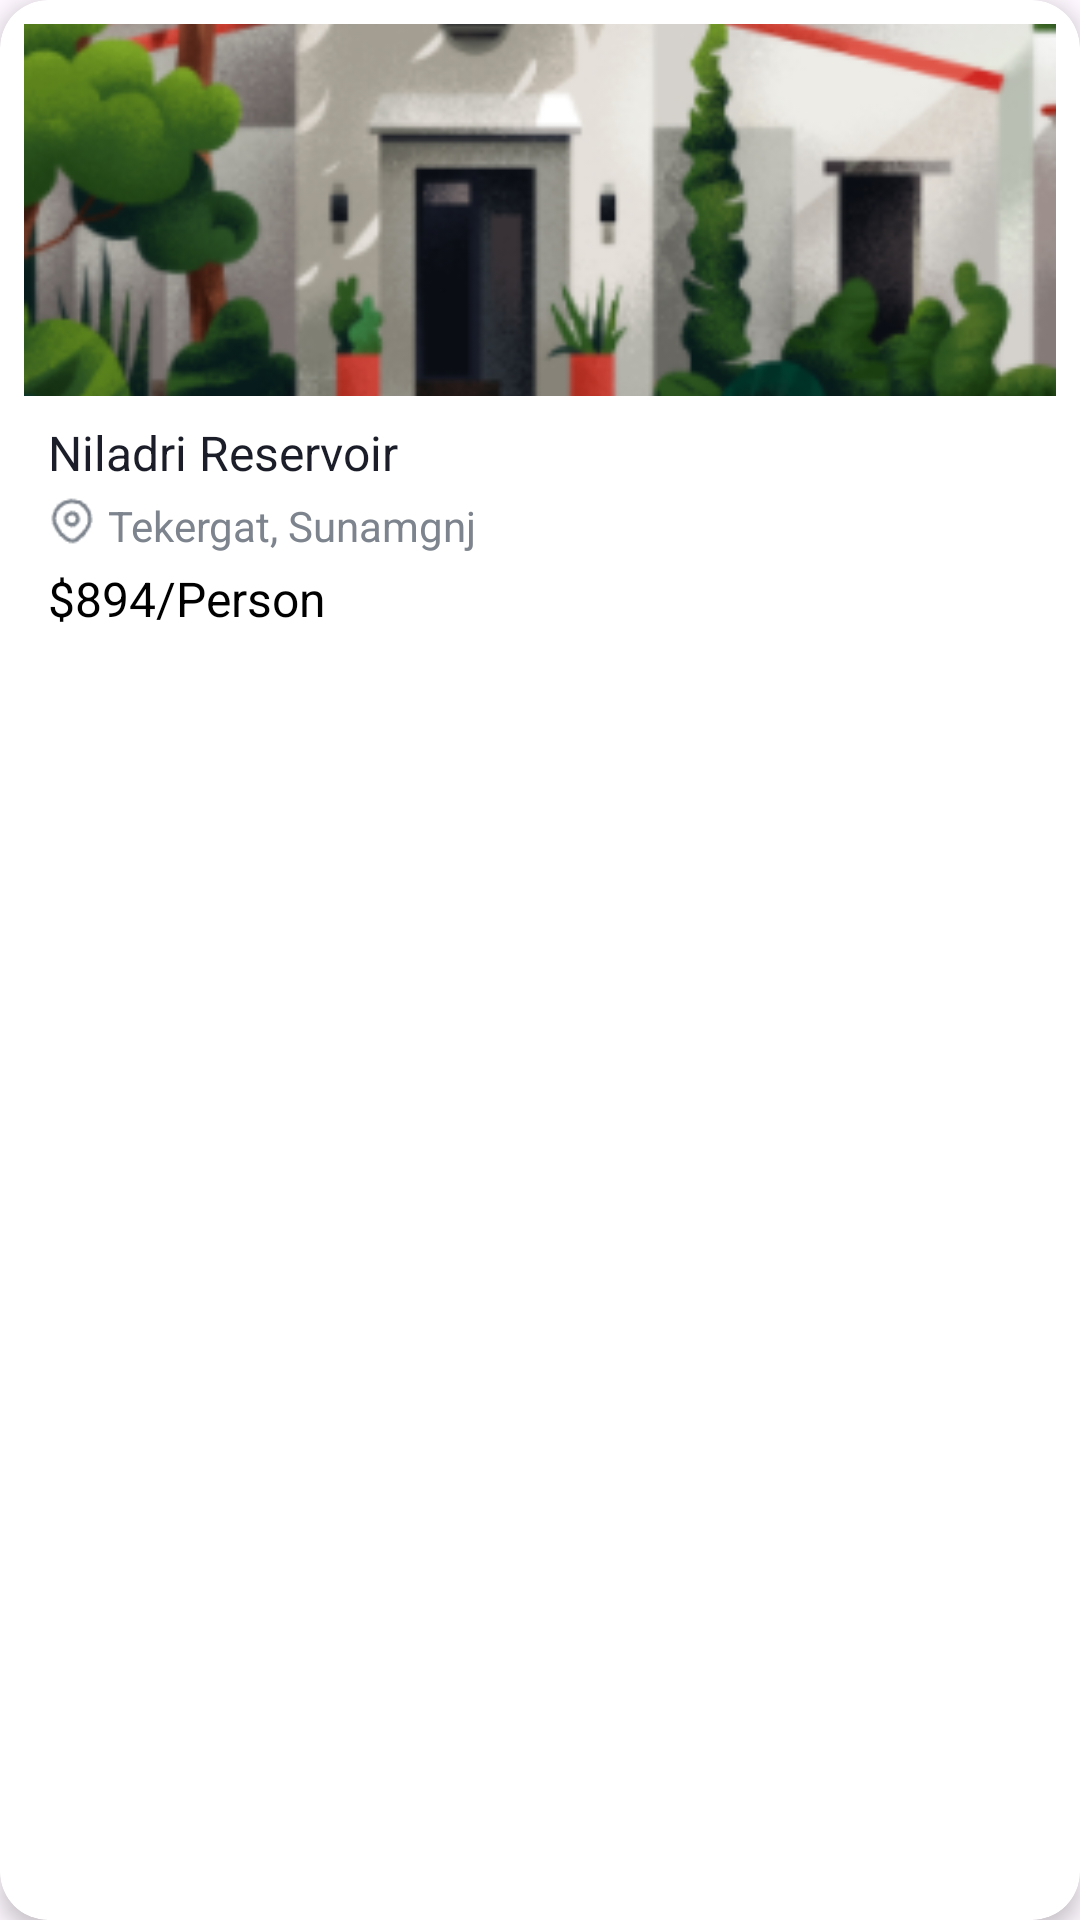

Icons on this 1080w x 1920h Android screen, each with its box as (x1, y1, x2, y2):
Location: (51, 498, 93, 544)
